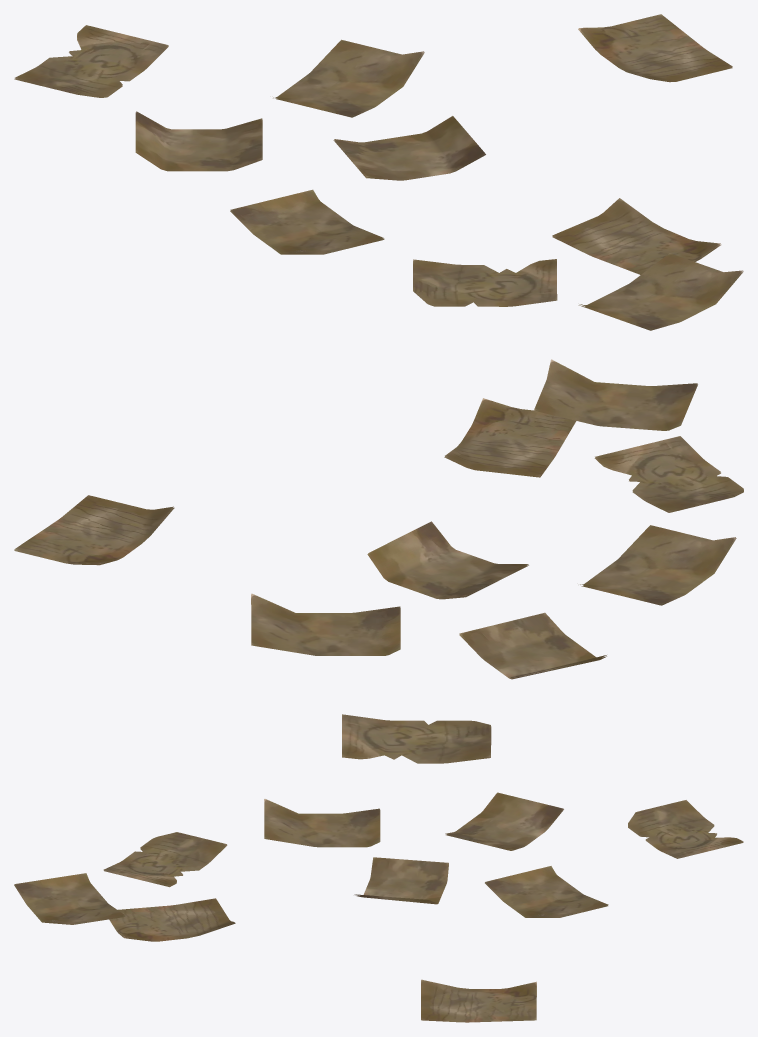
3 renders of one model, top to bottom at view 1: azimuth 30°, elevation 25°; view 2: azimuth 150°, elevation 25°; view 3: azimuth 270°, elevation 25°, orthographic. The views are drawn at different scales.
Visible parts, largest first — view 1: SM_DR_PaperStack_03_LOD0; view 2: SM_DR_PaperStack_03_LOD0; view 3: SM_DR_PaperStack_03_LOD0.
Part boxes in pixels (x1,y1,x2,y2): SM_DR_PaperStack_03_LOD0: (14, 14, 743, 330); SM_DR_PaperStack_03_LOD0: (14, 359, 743, 763); SM_DR_PaperStack_03_LOD0: (14, 792, 743, 1022).
Size of the model in its own units: 1.7 by 0.062 by 2.42.
Materials: 1 (1 with a texture image).
